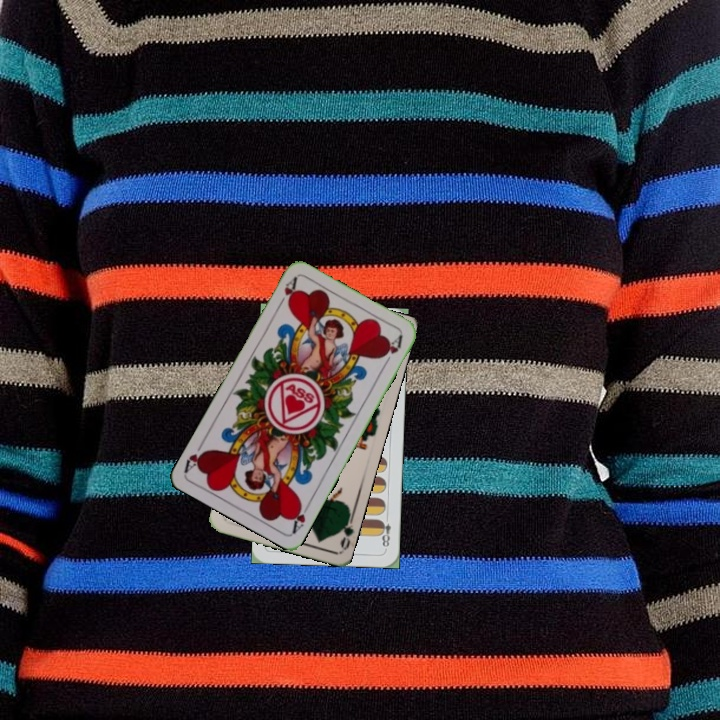E8: (376, 516, 393, 552)
GO: (333, 510, 357, 552)
HA: (273, 273, 300, 310), (288, 497, 313, 535)
